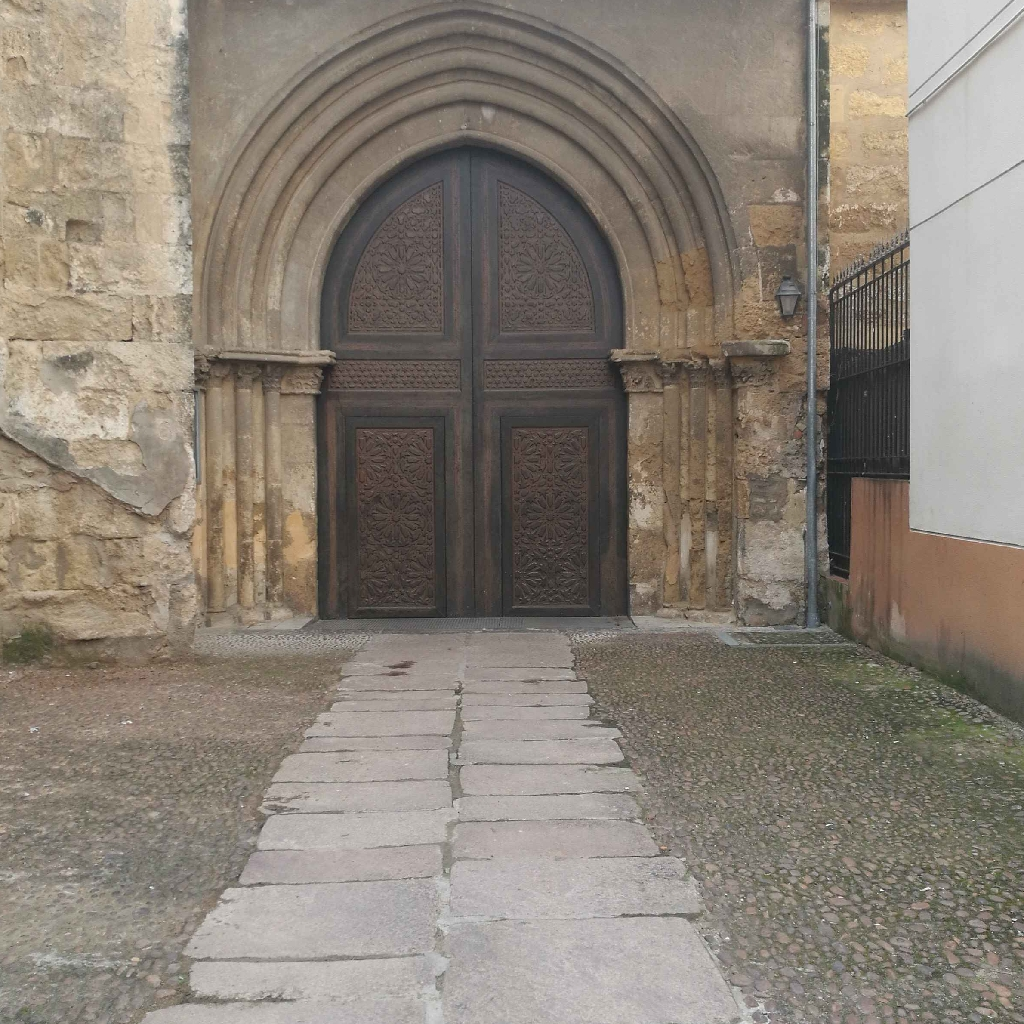arco-apuntado: (307, 101, 637, 353)
